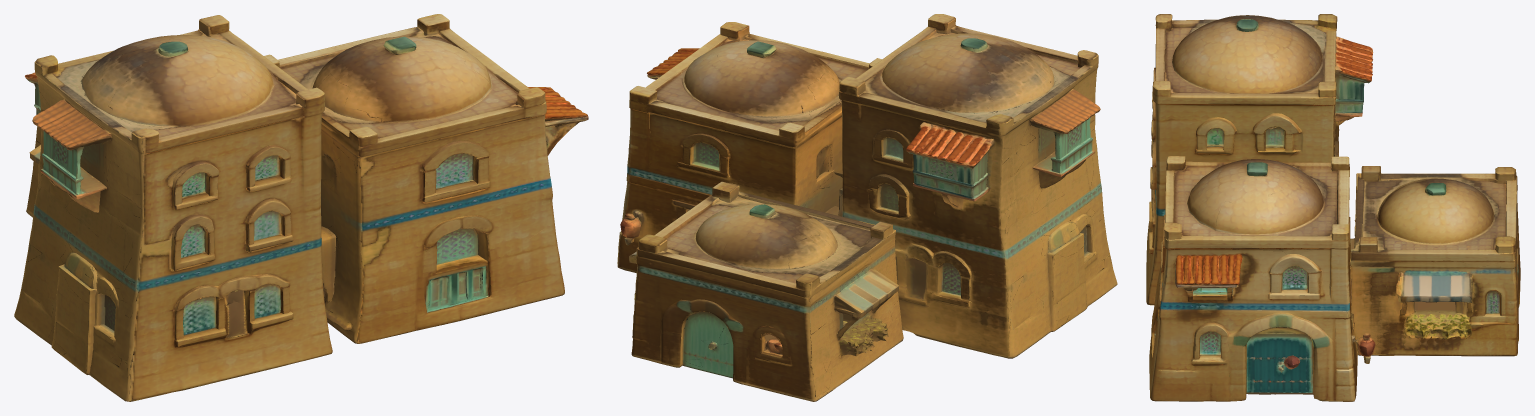
File: r3_arab_dome_cluster.glb
3 renders of one model, left to right at view 1: azimuth 30°, elevation 25°; view 2: azimuth 150°, elevation 25°; view 3: azimuth 270°, elevation 25°, orthographic. The views are drawn at different scales.
Visible parts, largest first — view 1: geometry_0; view 2: geometry_0; view 3: geometry_0.
Boxes of the visible parts, <box> form: geometry_0: <box>14,14,588,401</box>; geometry_0: <box>617,14,1117,401</box>; geometry_0: <box>1146,14,1520,401</box>.
Size of the model in its own units: 18 by 10 by 14.
Materials: 1 (1 with a texture image).
